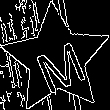M_NW: (26, 27, 87, 91)
